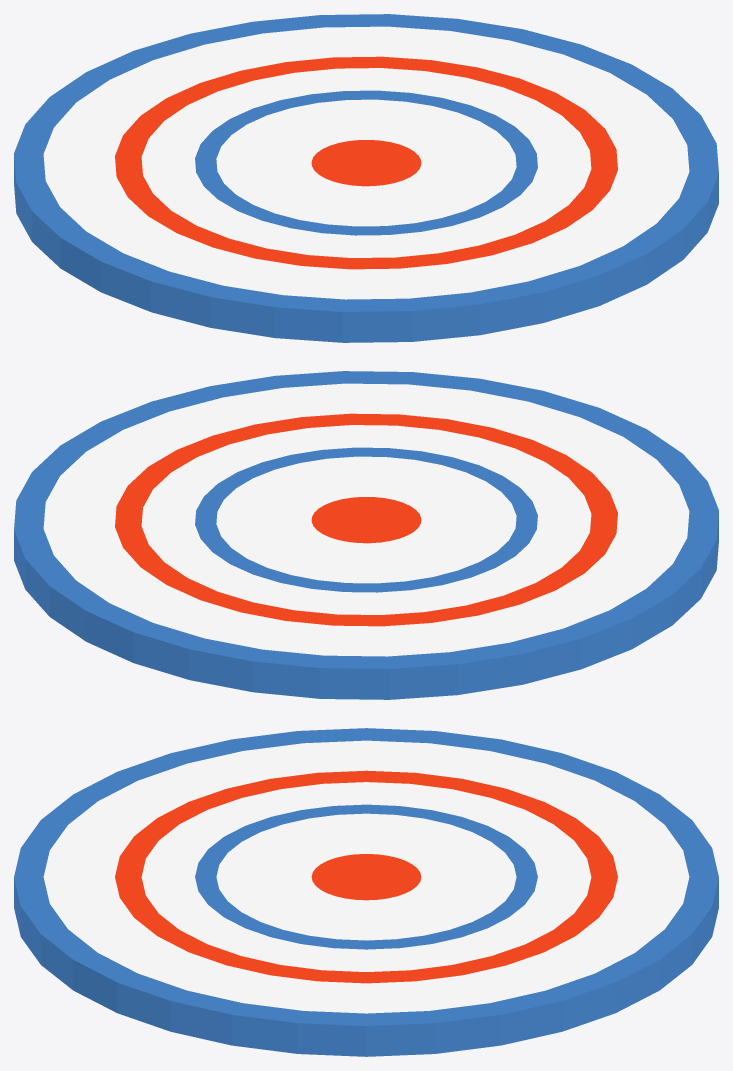
File: target.glb
The picture shows the model from 3 angles, top to bottom: view 1: azimuth 30°, elevation 25°; view 2: azimuth 150°, elevation 25°; view 3: azimuth 270°, elevation 25°; orthographic projection.
Visible parts, largest first — view 1: Cylinder; view 2: Cylinder; view 3: Cylinder.
Part boxes in pixels (<box>): Cylinder: <box>14,14,718,342</box>; Cylinder: <box>14,371,718,699</box>; Cylinder: <box>14,728,718,1056</box>.
Size of the model in its own units: 2 by 0.0965 by 2.
1 material, 1 textured.
